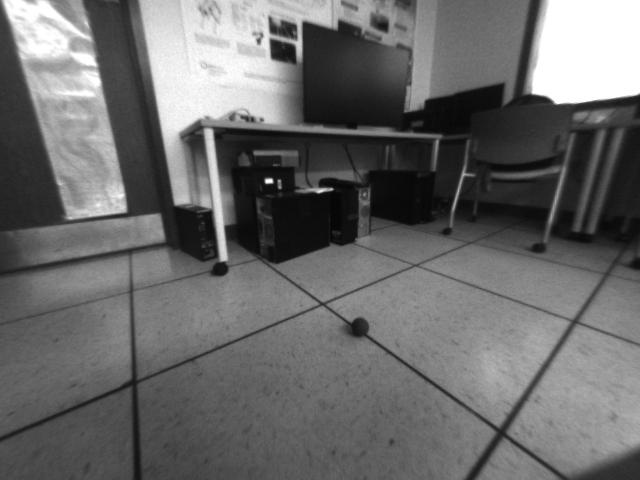dogtoy: (342, 309, 378, 344)
